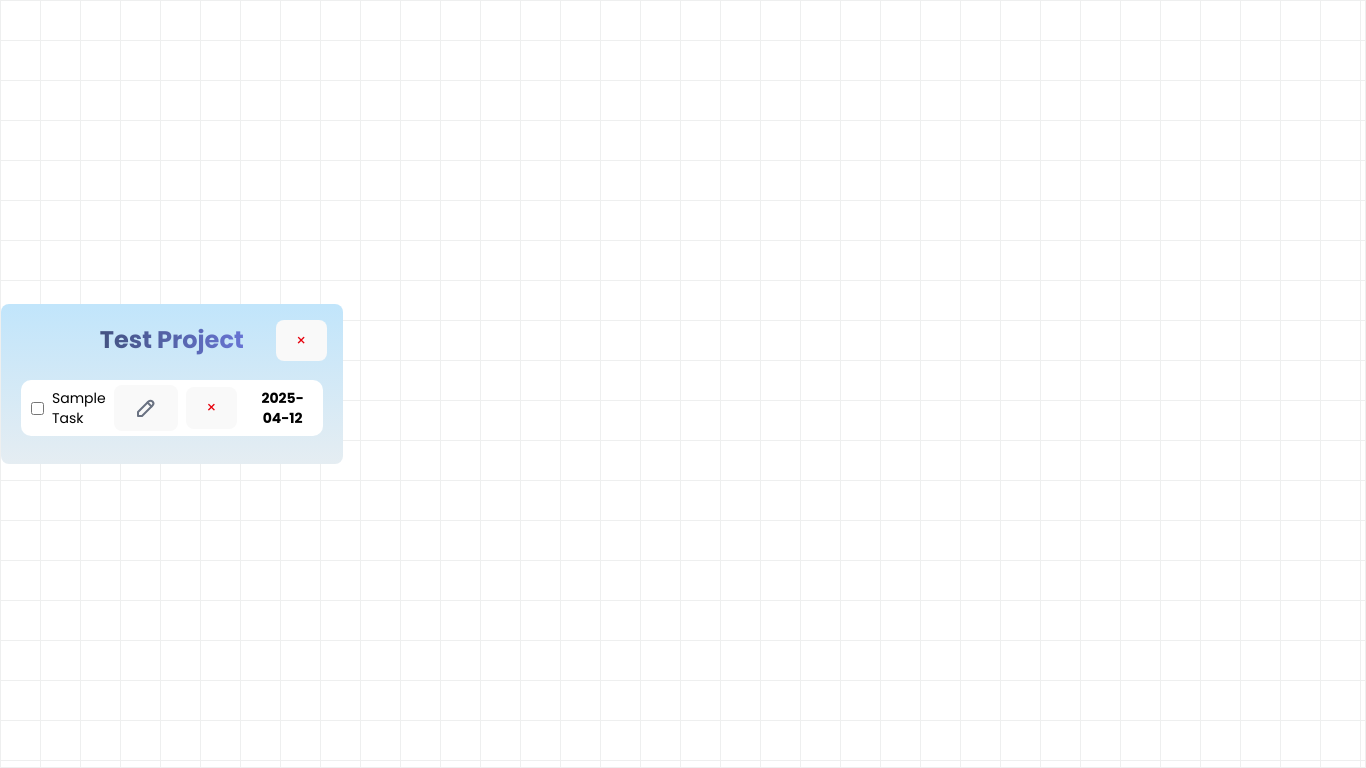
Test case: ProjectList Component › shows delete project modal when delete button is clicked
Expected: the element with test id "project-item-1" is shown, top-left (1, 304), bottom-right (342, 464)
find the delete button for the project
What coordinates should you click on to do the following:
click the button with test id "delete-project-button-1"
I would click on:
 (301, 341)
Its box is top-left (276, 320), bottom-right (326, 361).
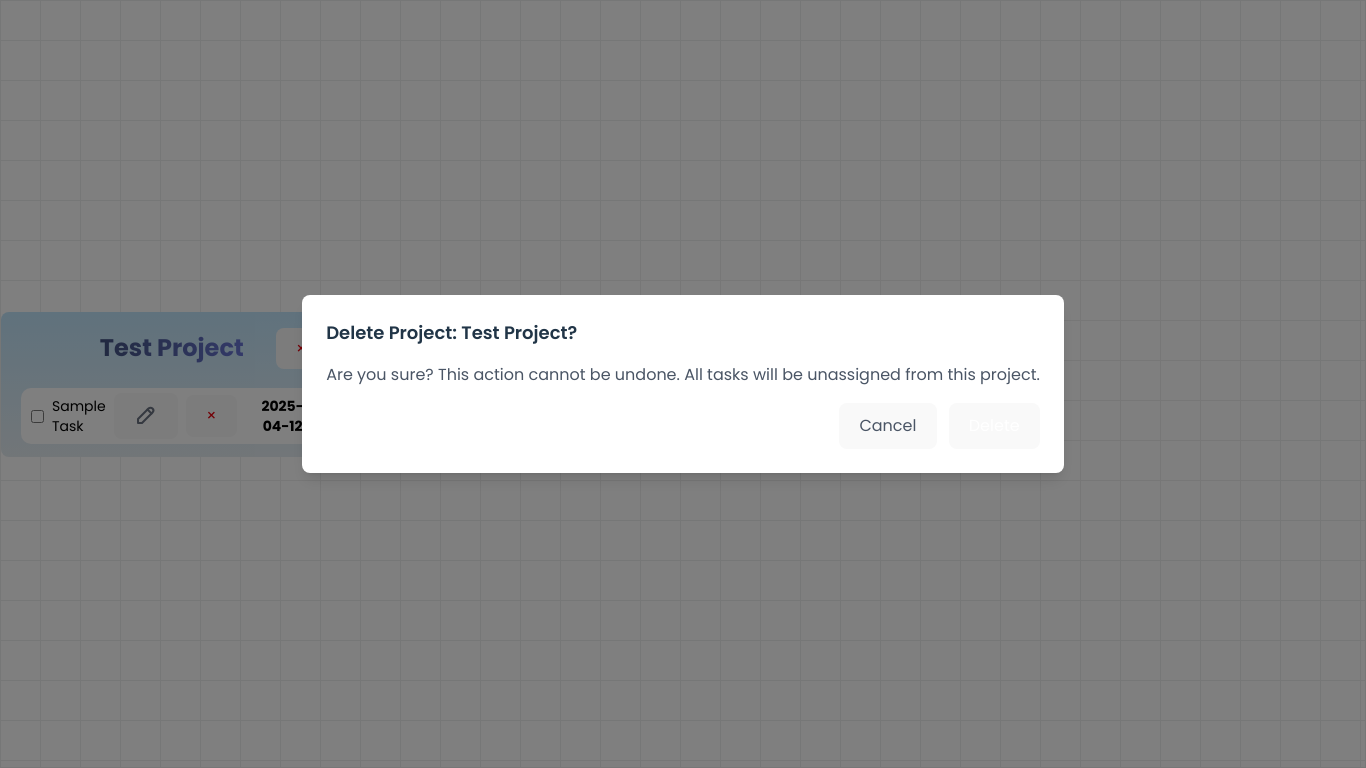
Now the element with test id "delete-project-confirm" is shown
Now the heading "Delete Project: Test Project?" is shown, box top-left (326, 320), bottom-right (577, 345)
